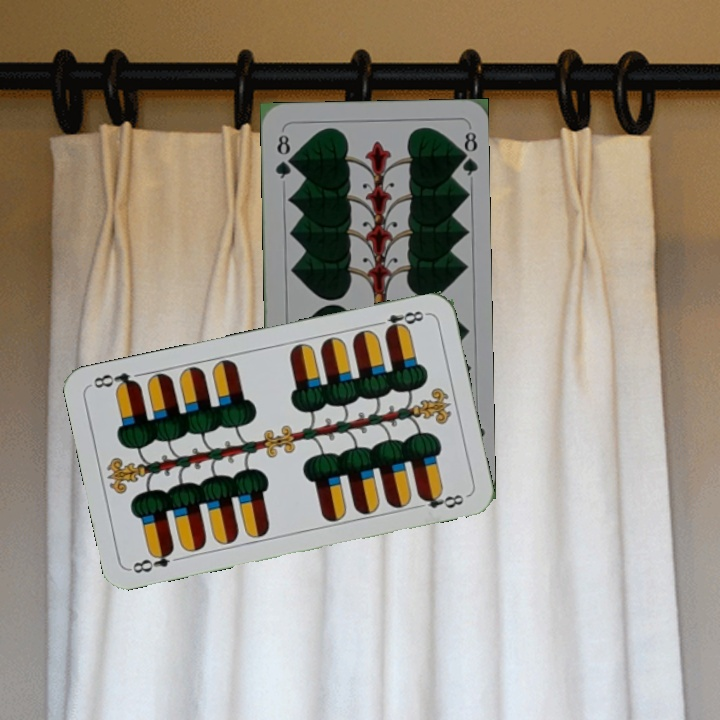E8: (371, 307, 430, 336), (127, 544, 177, 576)
G8: (271, 130, 295, 181)
